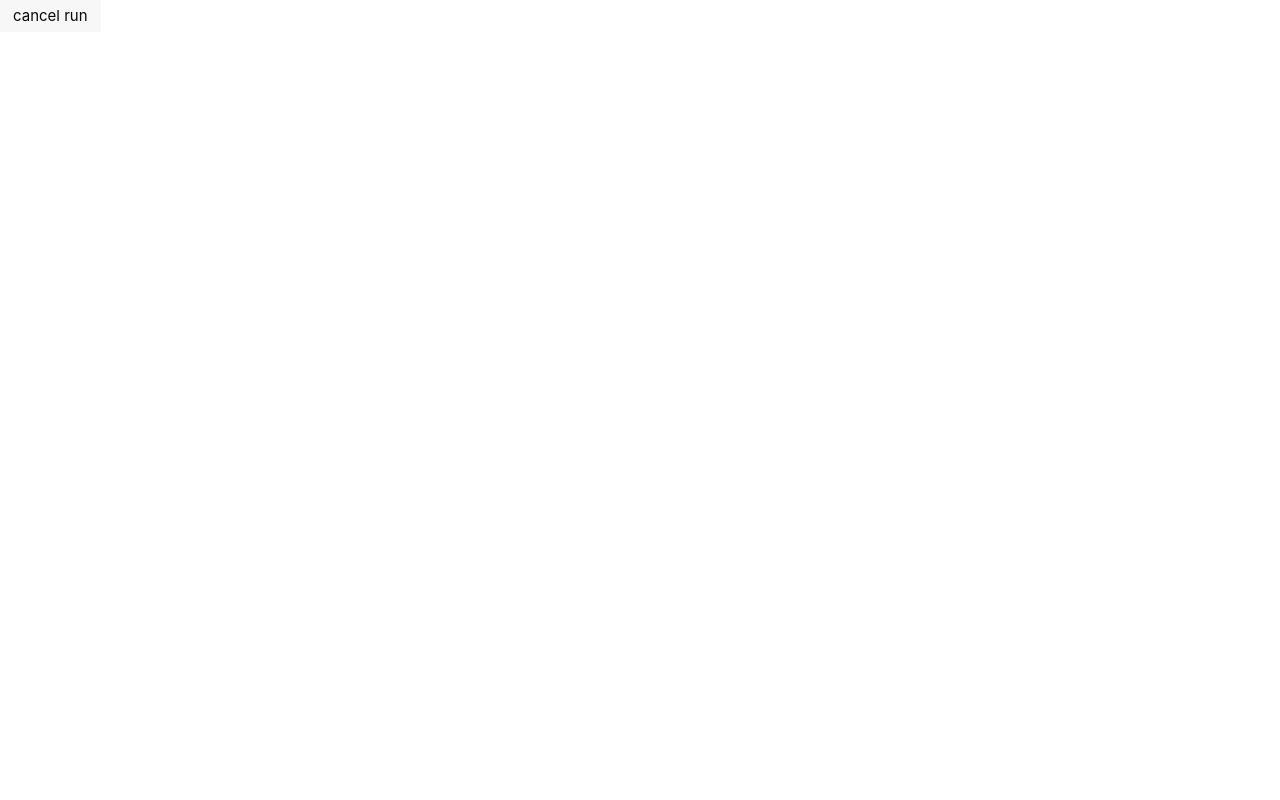
Scenario: pending and unknown lock dismissal and duplicate submit; only a read confirms success
Click the button "cancel run" at {"x": 50, "y": 16}, box [0,0,100,32]
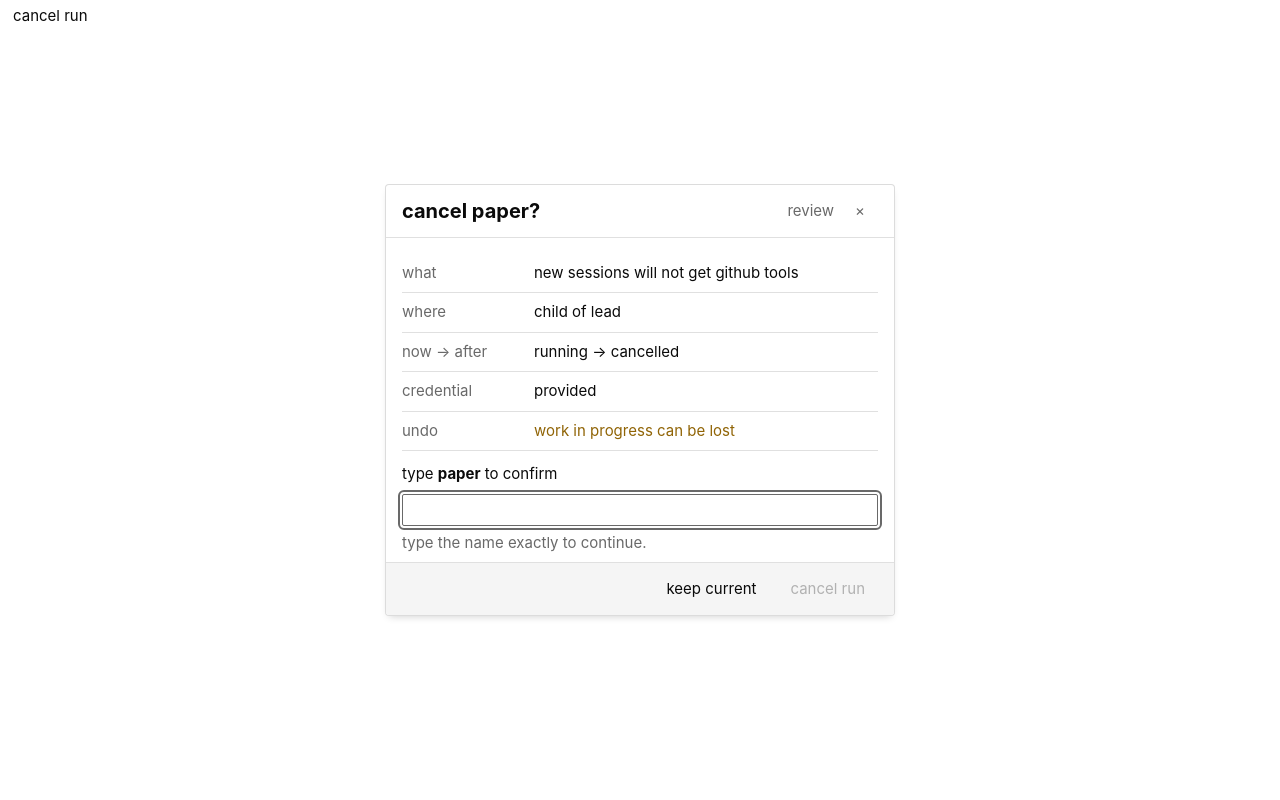
Type "paper" into the field at {"x": 640, "y": 510}, box [402,494,878,526]
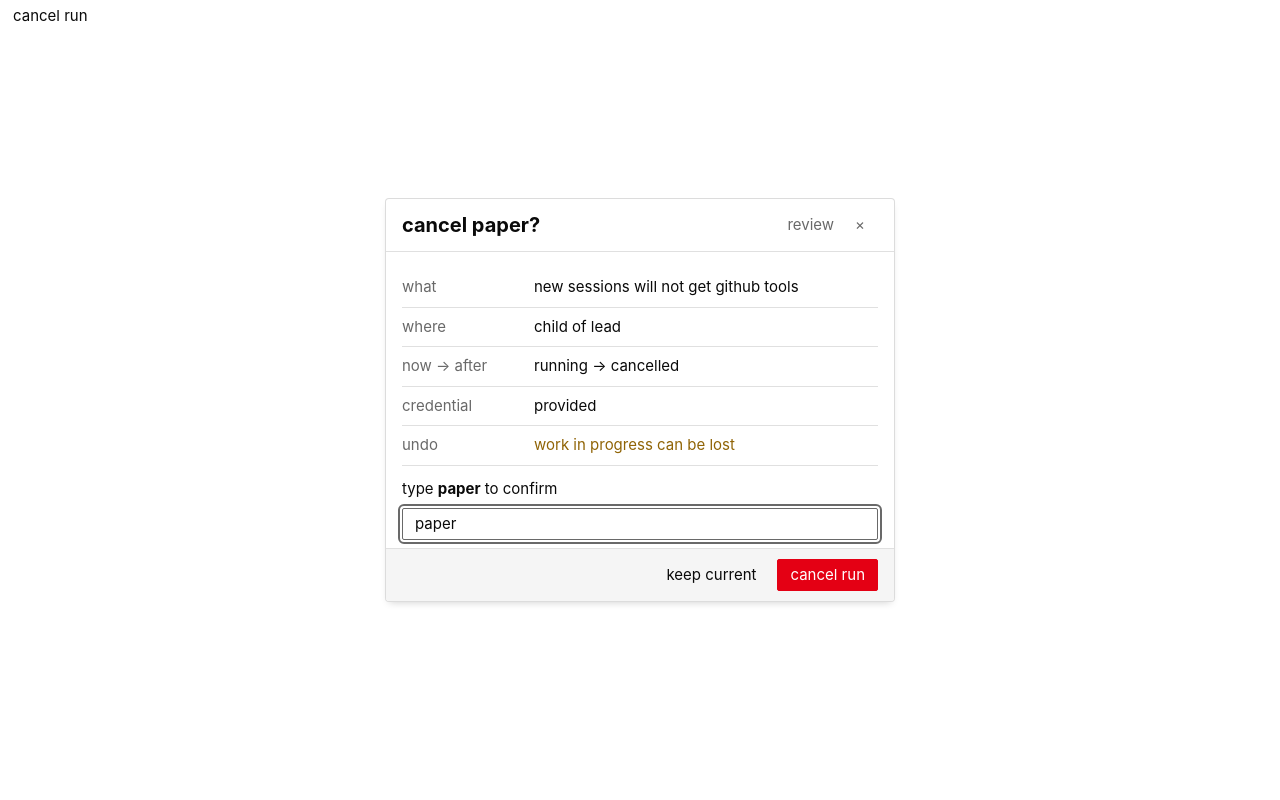
Submit the form named "cancel run", box [386,199,894,601]
Submit the form named "cancel run", box [386,199,894,601]
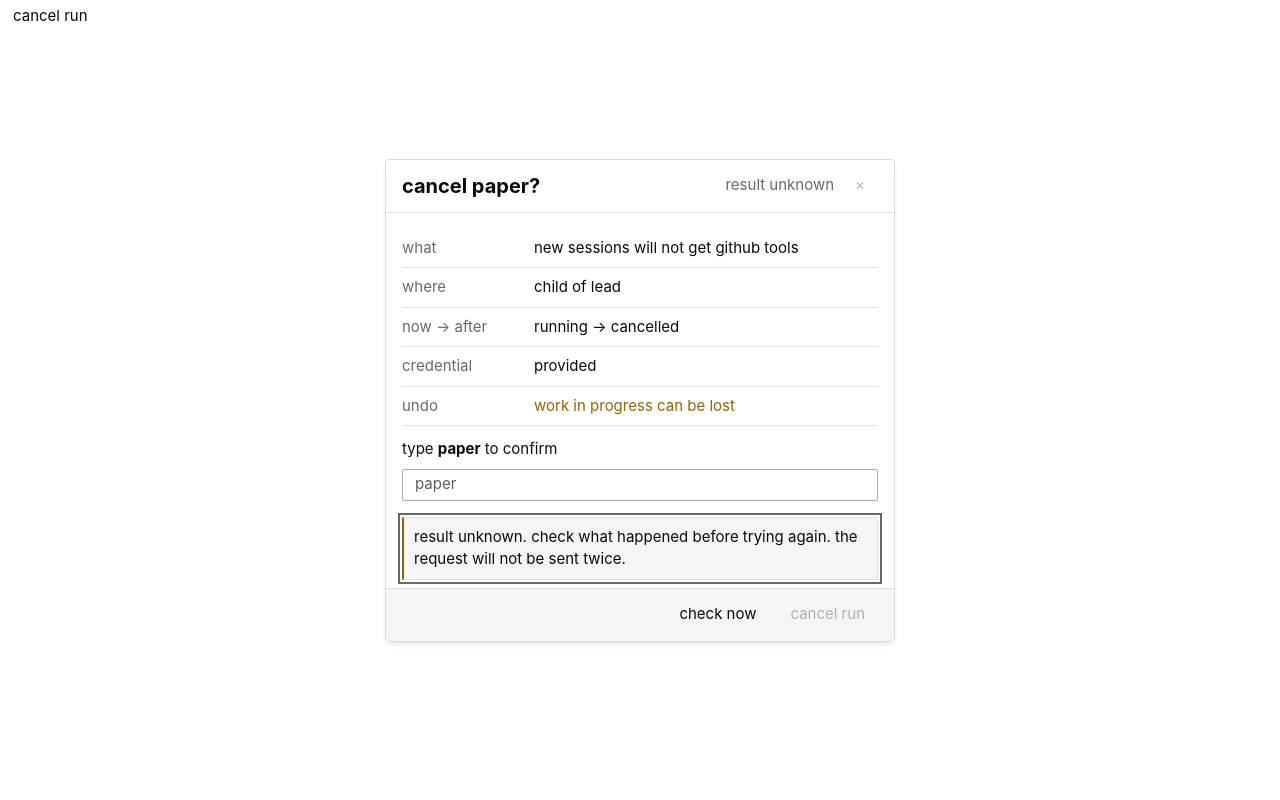
Check: the text "paper cancelled" is not shown
Check: the text "finishing…" is shown, box [402,516,878,580]
Submit the form named "cancel run", box [386,160,894,640]
Check: the text "finishing…" shows "result unknown.", box [414,526,858,568]
Click the button "check now" at {"x": 718, "y": 614}, box [666,598,770,630]
(page scrolled)
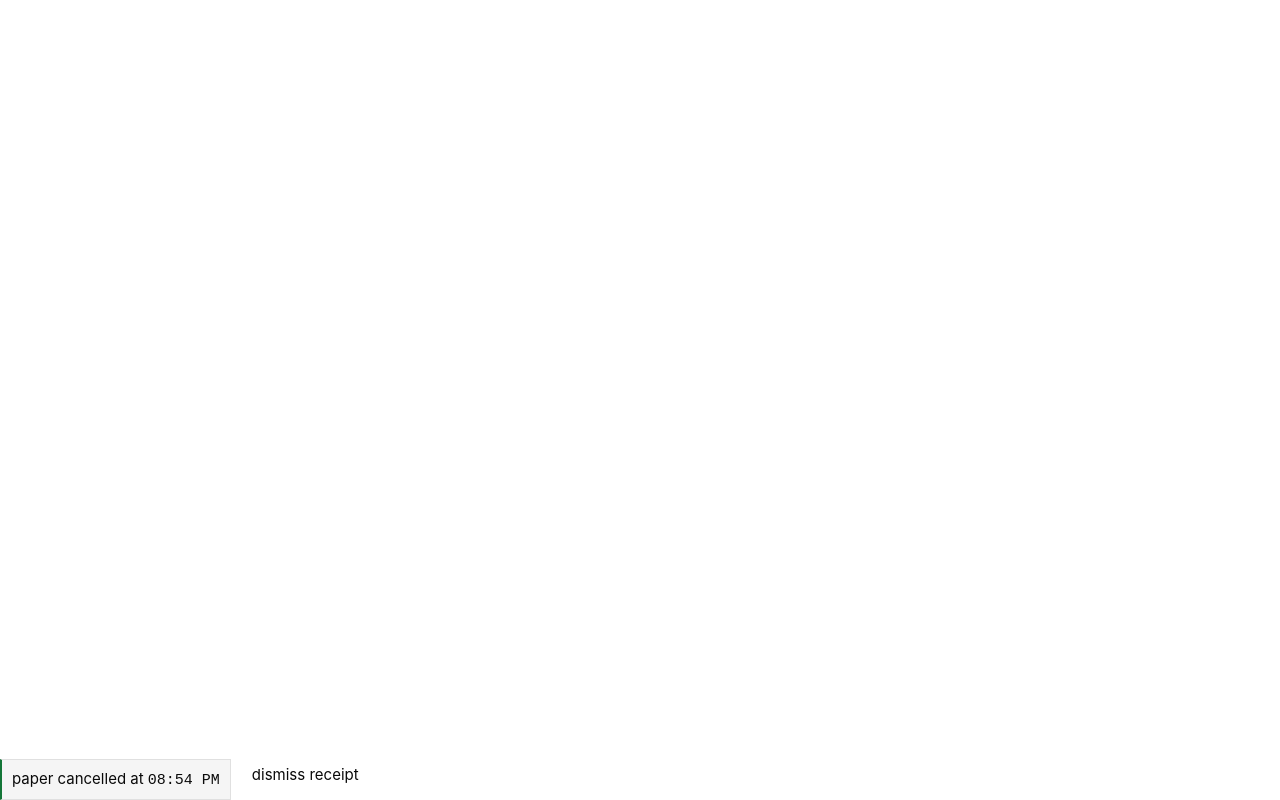
Check: the text "08:54 PM" is shown, box [148,772,220,789]
Click the button "dismiss receipt" at {"x": 305, "y": 775}, box [239,759,372,791]
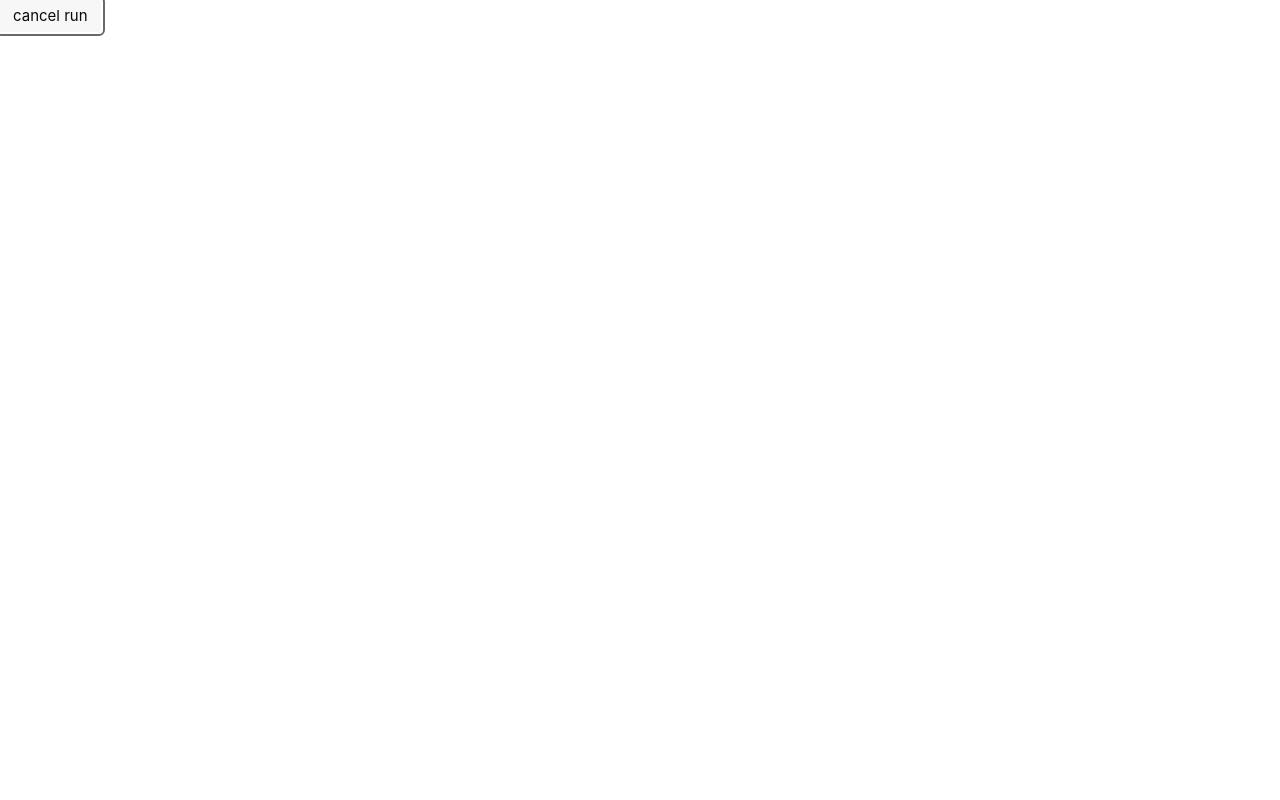
Check: the text "paper cancelled" is gone
